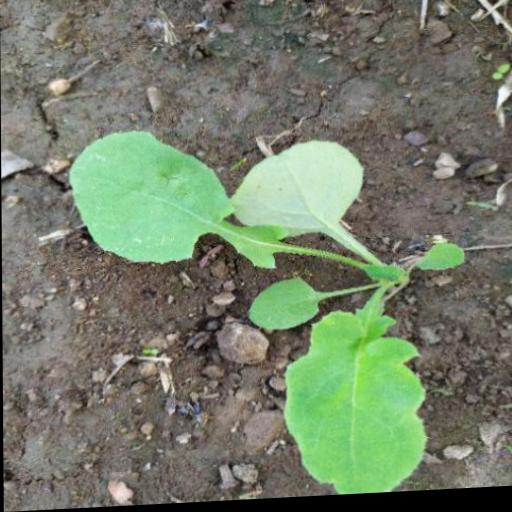weed: (64, 119, 430, 505)
